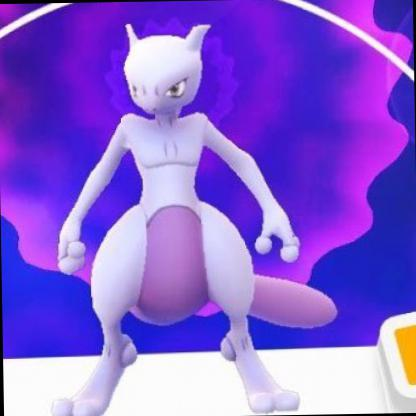Mewtwo: (6, 18, 416, 385)
